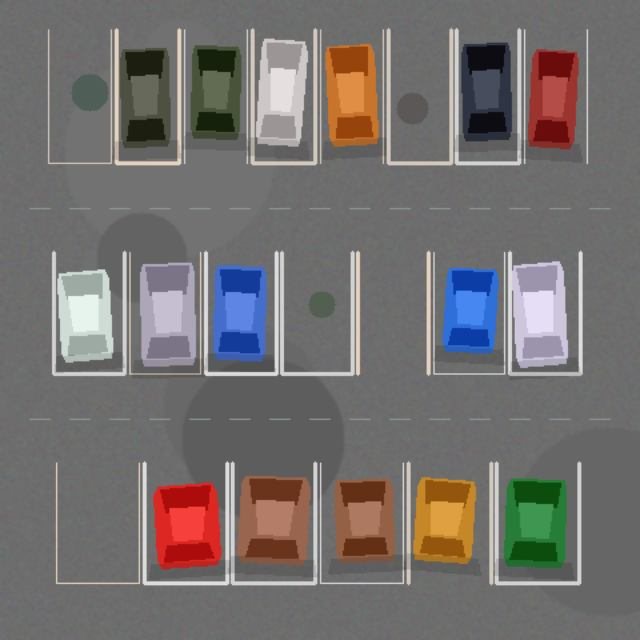space-empty: (56, 463, 139, 583), (281, 252, 352, 373), (357, 252, 428, 373), (48, 29, 111, 163), (388, 29, 451, 163)
space-occupied: (144, 463, 227, 583), (232, 463, 315, 583), (320, 463, 403, 583), (408, 463, 491, 583), (496, 463, 579, 583), (53, 252, 124, 373), (129, 252, 200, 373), (205, 252, 276, 373), (433, 252, 504, 373), (509, 252, 580, 373), (116, 29, 179, 163), (184, 29, 247, 163), (252, 29, 315, 163), (320, 29, 383, 163), (456, 29, 519, 163), (524, 29, 587, 163)
